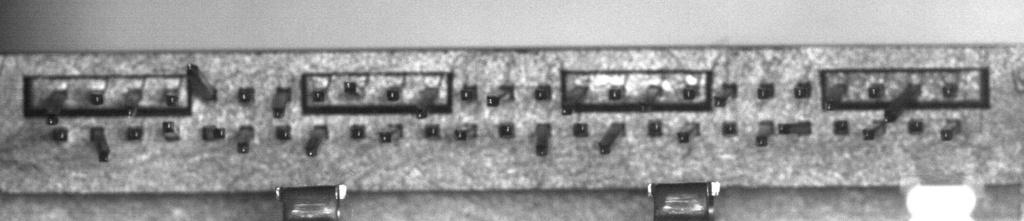pin_defect: (182, 62, 226, 106), (878, 85, 925, 122), (40, 81, 70, 126), (817, 74, 846, 116), (708, 79, 743, 112), (632, 80, 665, 115), (594, 122, 627, 157), (411, 82, 440, 121), (559, 82, 590, 118), (482, 82, 517, 109), (269, 84, 293, 121), (90, 126, 112, 165), (778, 116, 812, 141), (305, 124, 329, 159), (937, 116, 964, 146), (453, 78, 480, 107), (377, 119, 407, 145), (534, 119, 553, 160), (121, 87, 145, 119), (451, 120, 482, 144), (859, 117, 887, 143), (236, 121, 256, 157), (200, 123, 229, 146), (754, 119, 776, 149), (677, 121, 702, 146), (341, 78, 367, 102), (789, 80, 813, 102), (756, 80, 776, 103), (868, 79, 887, 101), (162, 120, 180, 140), (831, 119, 851, 136), (535, 84, 552, 102), (50, 127, 69, 143), (164, 88, 180, 107), (908, 118, 925, 134), (648, 120, 663, 138), (942, 82, 958, 98), (311, 86, 327, 102), (721, 121, 737, 136), (683, 86, 700, 100), (276, 126, 291, 140)
pin_ok: (423, 123, 443, 140), (608, 85, 626, 101), (88, 91, 105, 107), (499, 123, 515, 139), (350, 124, 366, 140), (237, 87, 254, 102), (573, 123, 589, 137), (386, 86, 400, 101), (128, 127, 142, 140)
